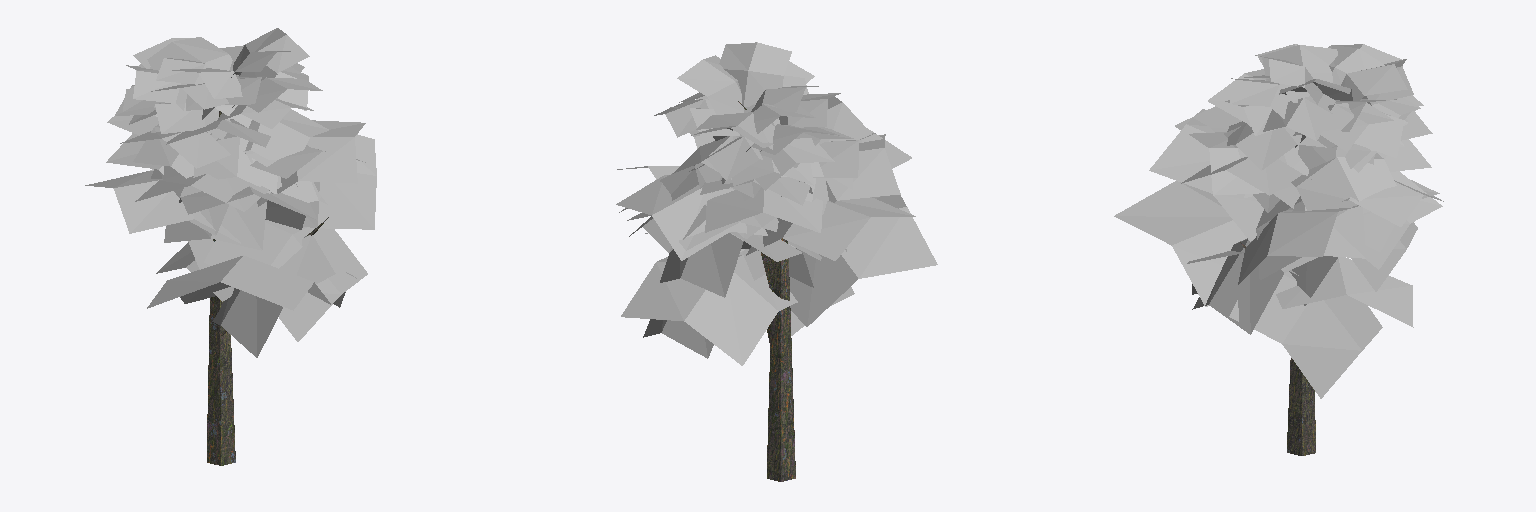
3 renders of one model, left to right at view 1: azimuth 30°, elevation 25°; view 2: azimuth 150°, elevation 25°; view 3: azimuth 270°, elevation 25°, orthographic.
Parts seen in each view (by area): view 1: Default; view 2: Default; view 3: Default.
Boxes of the visible parts, <box> form: Default: <box>85,28,376,465</box>; Default: <box>616,42,937,481</box>; Default: <box>1114,44,1443,455</box>.
Size of the model in its own units: 11.57 by 16.23 by 11.93.
2 materials, 1 textured.